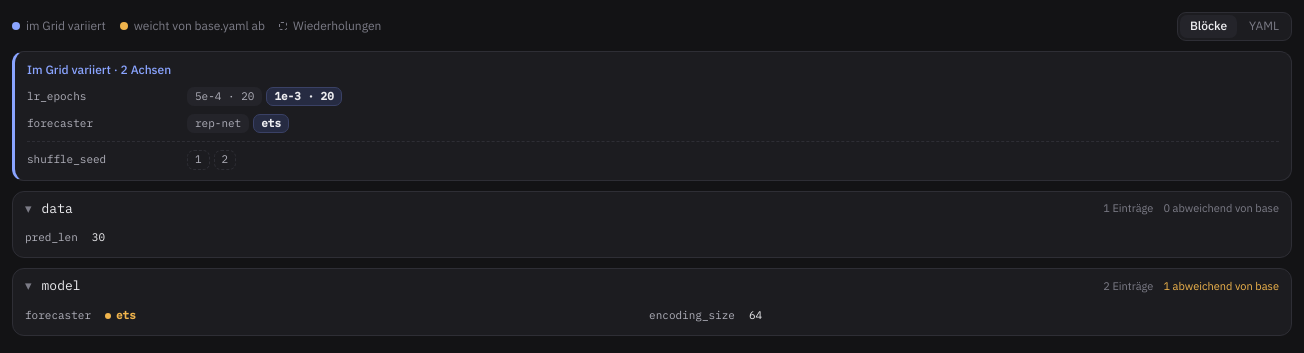
Scenario: ConfigView › loads the config of the combination and switches between Blöcke and YAML; the choice is remembered
The width and height of the screenshot is (1304, 353).
Click the button with test id "cfg-mode-yaml". click: (1264, 26)
box: [1239,15,1289,38]
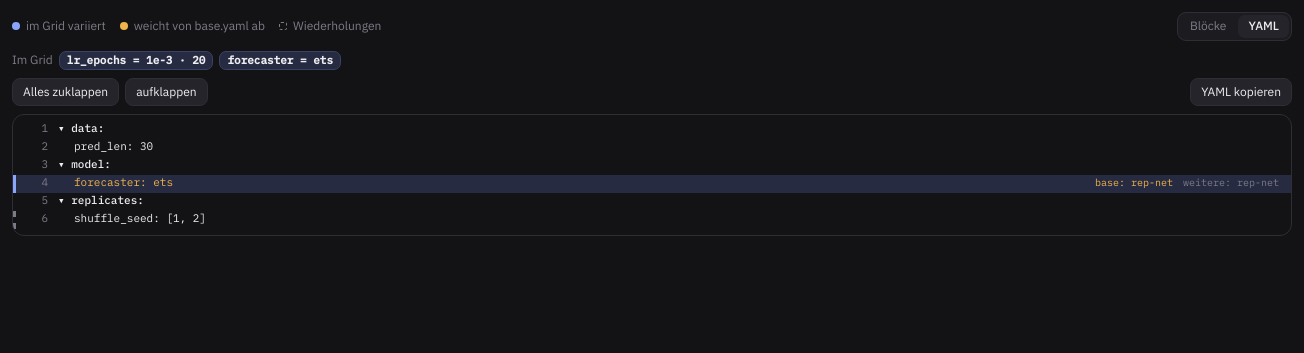
Now the element with test id "cfg-yaml" is shown, box [12,51,1292,236]
